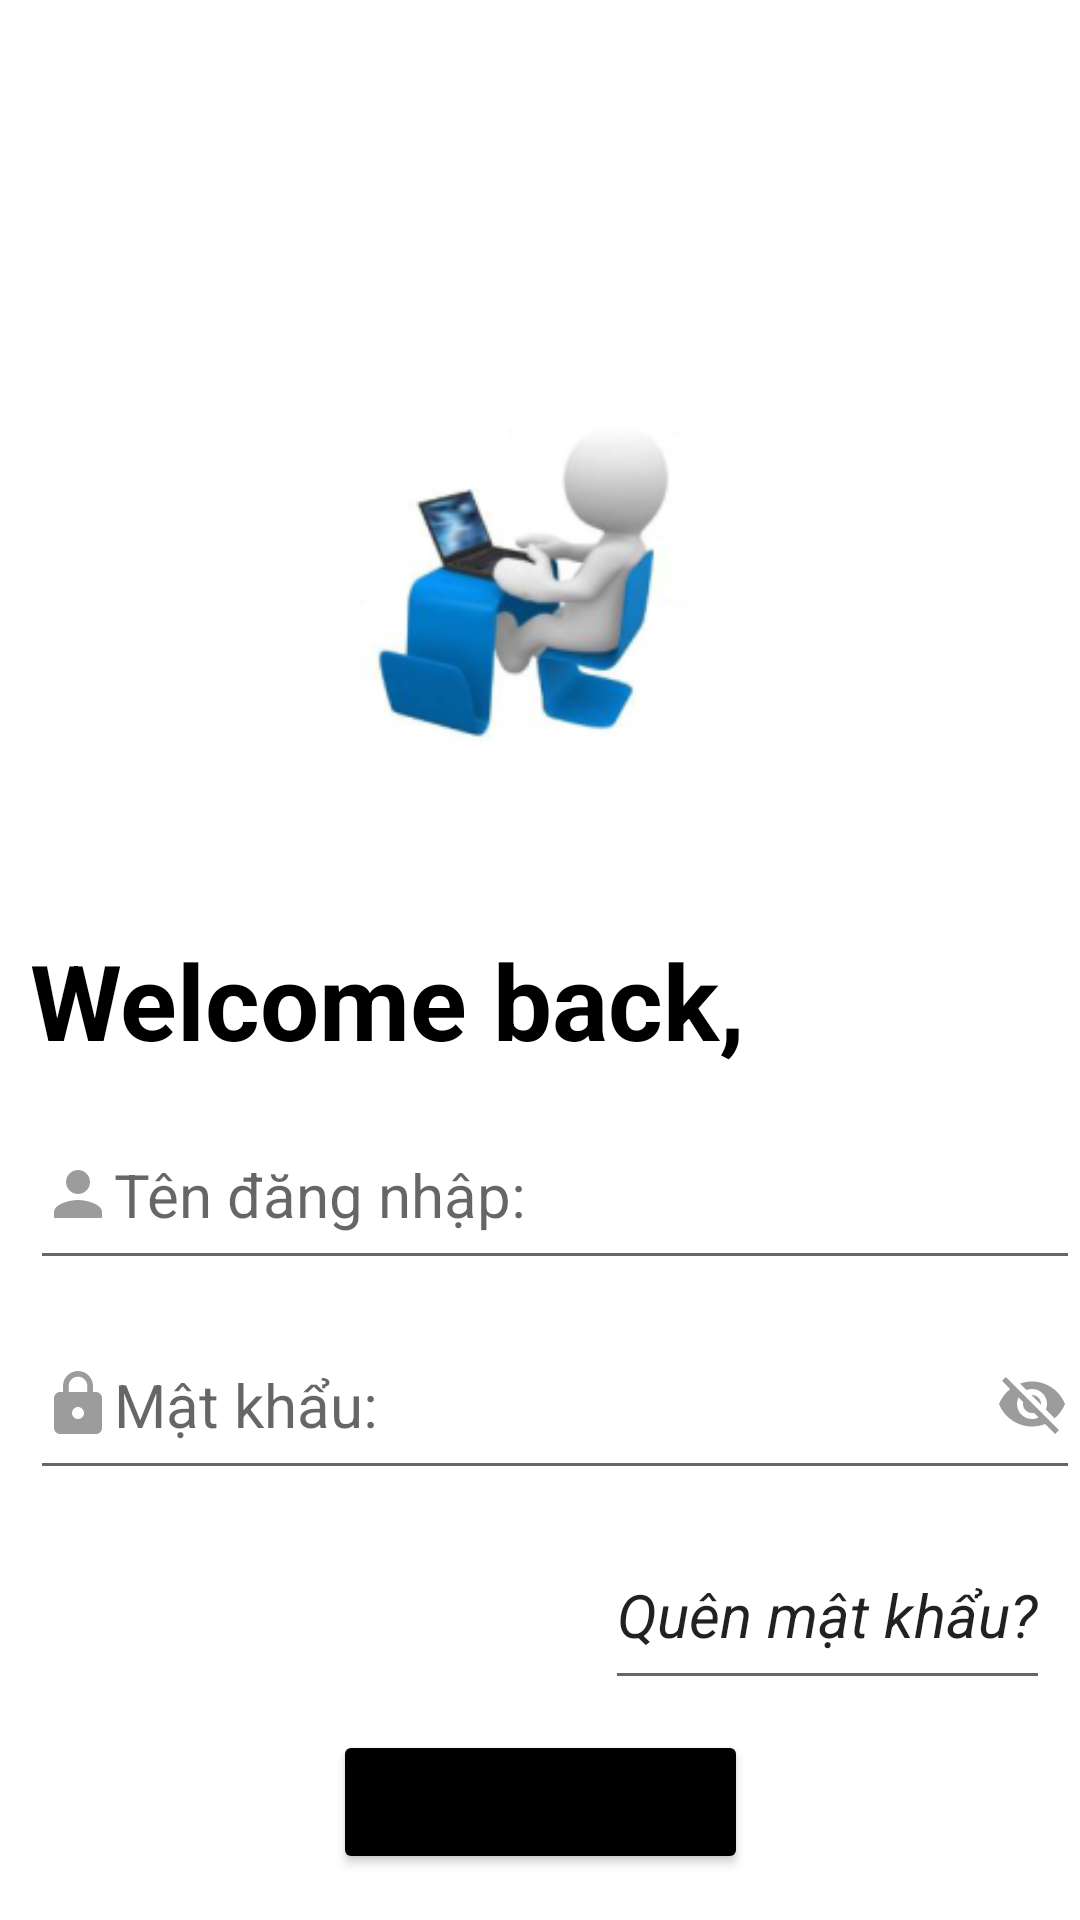

Icon bounding boxes for this 1080w x 1920h phone screenshot, format (x1, y1, x2, y2):
loginimg: (378, 453, 668, 737)
